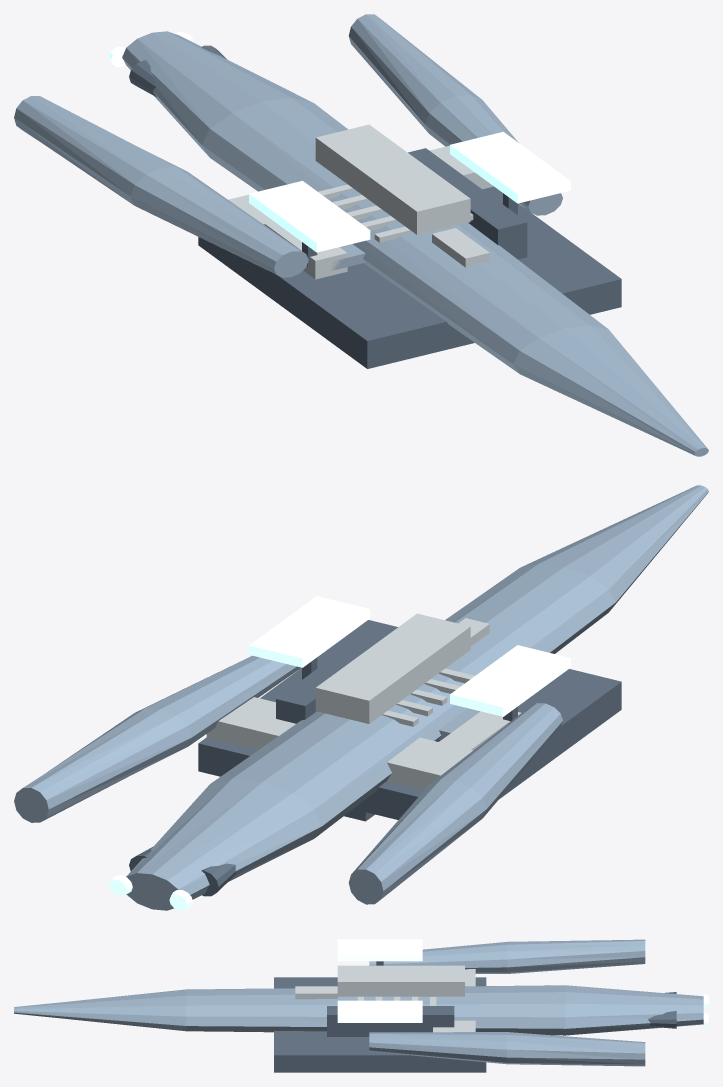
3 views of the same model, one above another, from view 1: azimuth 30°, elevation 25°; view 2: azimuth 150°, elevation 25°; view 3: azimuth 270°, elevation 25° (orthographic). The views are drawn at different scales.
Size of the model in its own units: 5.3 by 1.44 by 13.75.
